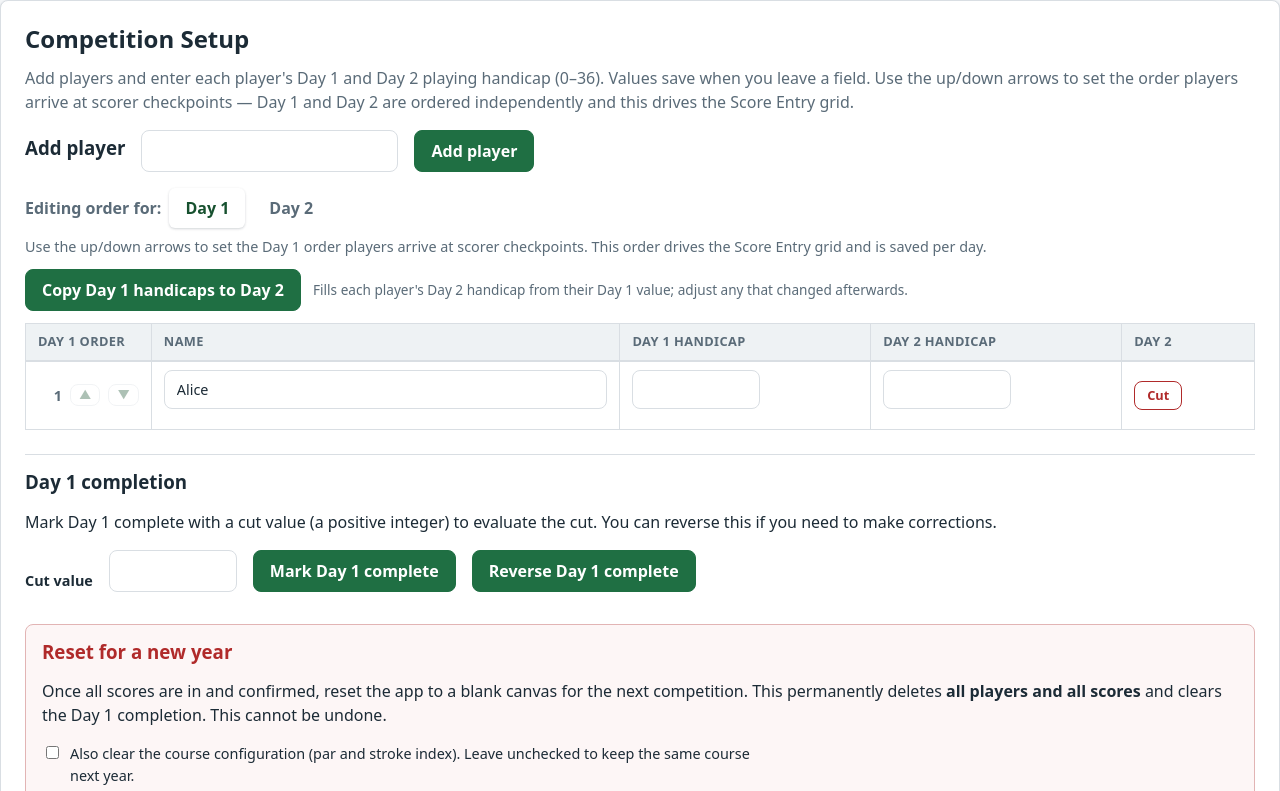
Test: CompetitionSetupScreen › rejects a non-integer handicap with the permitted range (2.6)
Type "12.5" into the number field named "Day 1 handicap for Alice". click: (696, 389)
box: left=632, top=370, right=760, bottom=409
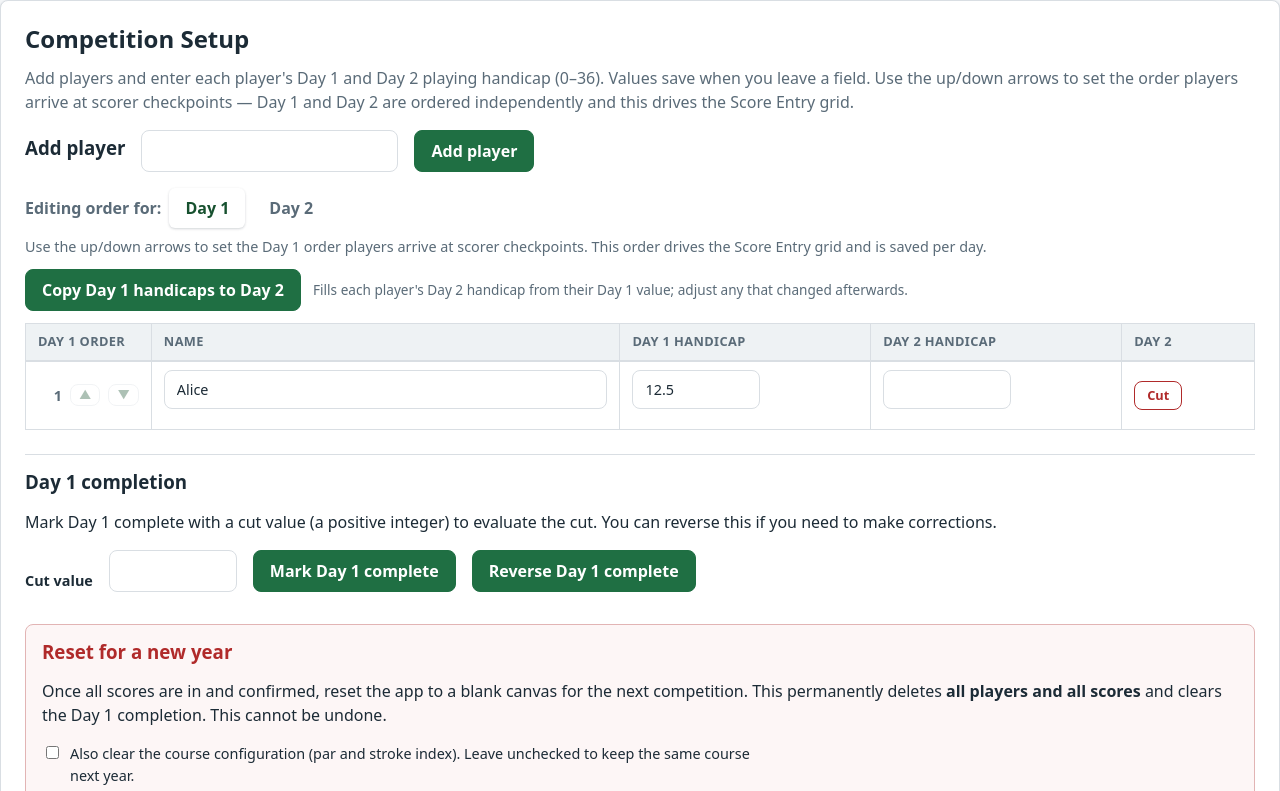
Leave the number field named "Day 1 handicap for Alice", box left=632, top=370, right=760, bottom=409
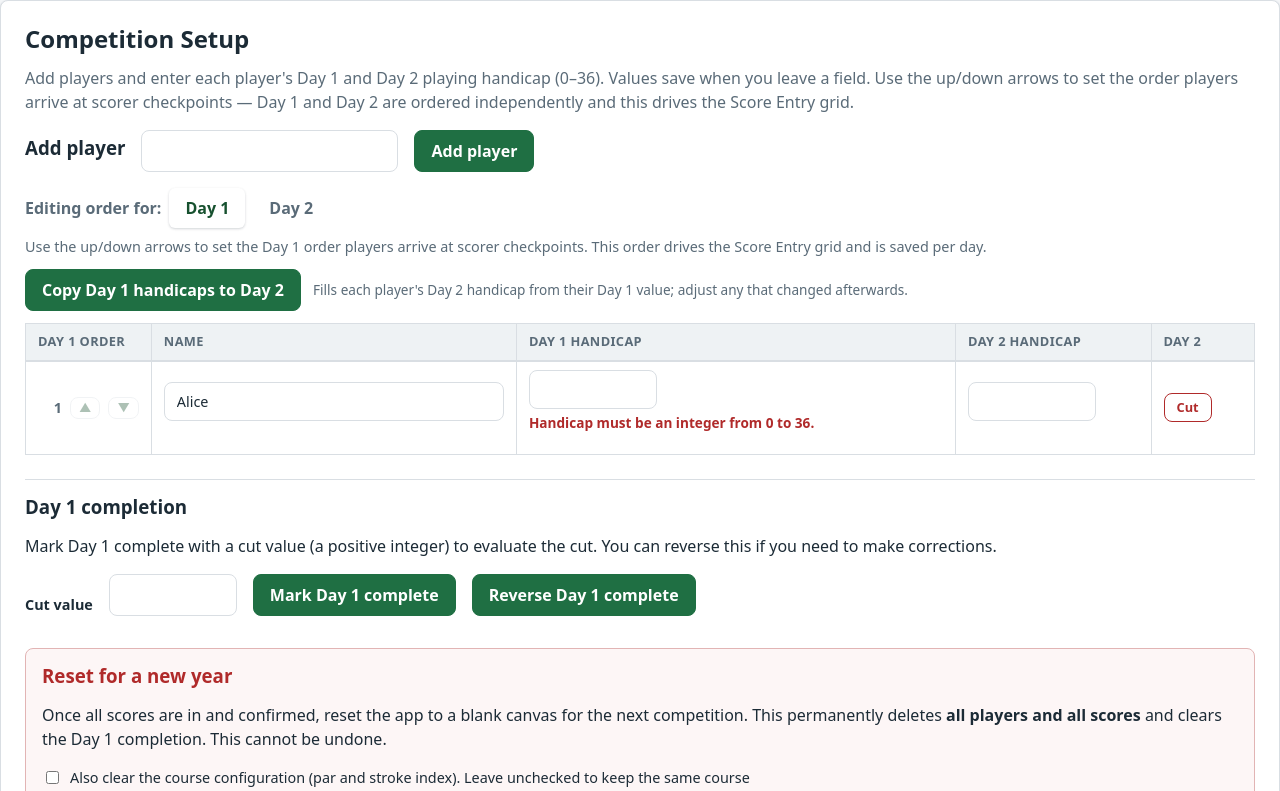
Expected: the text "Handicap must be an integer from 0 to 36." is shown, left=529, top=413, right=814, bottom=432
